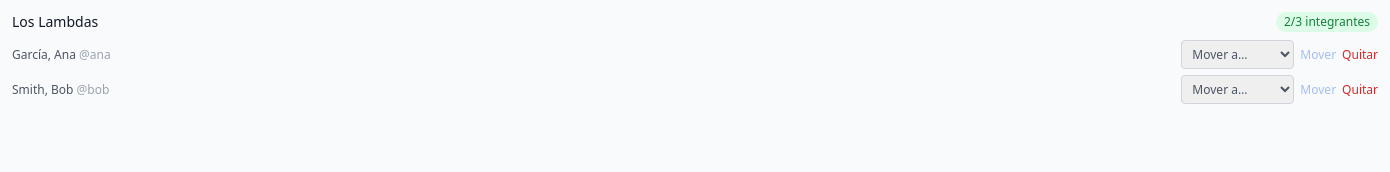
Scenario: GrupoCard › mientras procesa › deshabilita selects y botones para evitar envíos duplicados
The width and height of the screenshot is (1390, 172).
Select "Los Monoides" in the dropdown named "Mover a @ana a…" at (1238, 54), box 1181,40 -> 1294,69
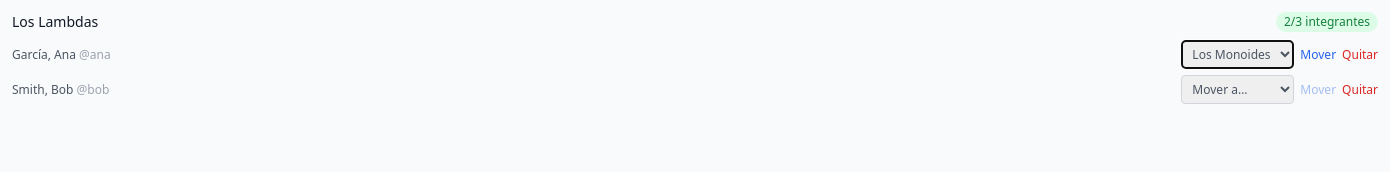
Click the button "Mover" in the row of "García, Ana" at (1318, 54), box 1300,46 -> 1336,62
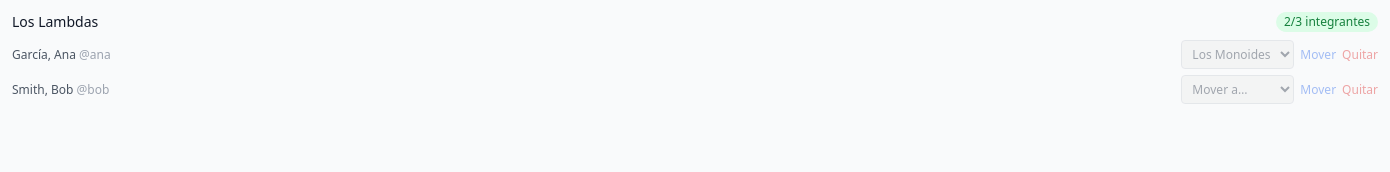
Result: the dropdown named "Mover a @ana a…" is disabled at 1181,40 -> 1294,69
Result: the dropdown named "Mover a @bob a…" is disabled at 1181,75 -> 1294,104
Result: the button "Mover" in the row of "García, Ana" is disabled at 1300,46 -> 1336,62
